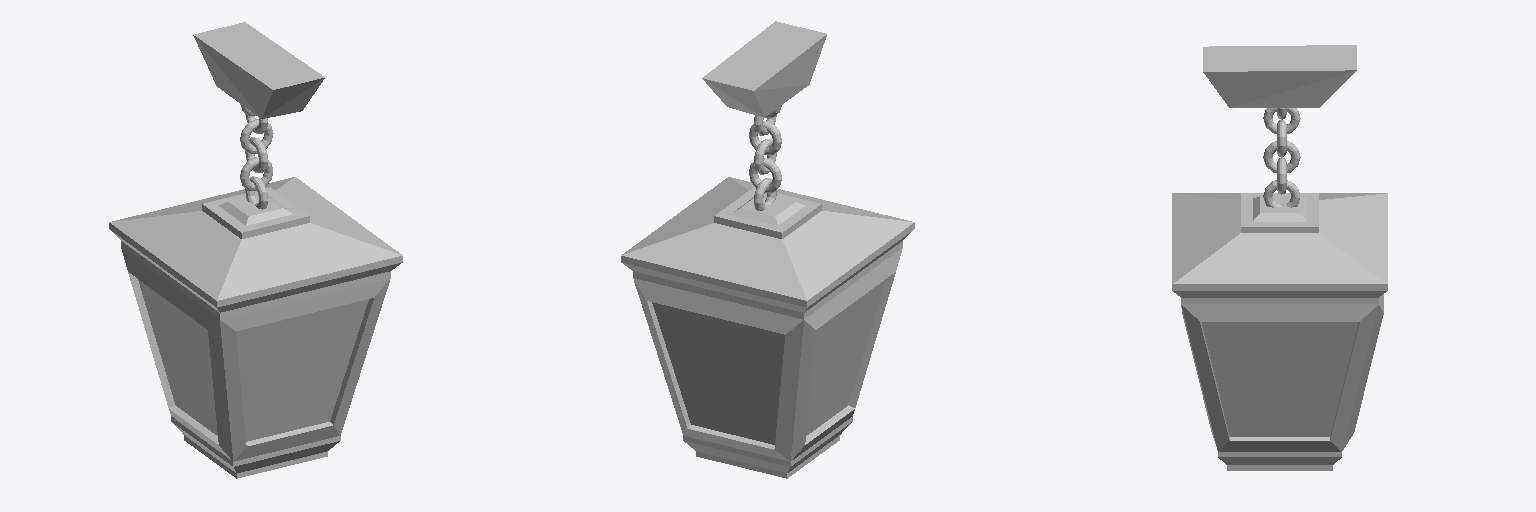
The model's file is lantern.obj.
The picture shows the model from 3 angles: view 1: azimuth 30°, elevation 25°; view 2: azimuth 150°, elevation 25°; view 3: azimuth 270°, elevation 25°; orthographic projection.
Parts seen in each view (by area): view 1: group[number redacted], group[number redacted], group[number redacted], group[number redacted], group[number redacted]; view 2: group[number redacted], group[number redacted], group[number redacted], group[number redacted]; view 3: group[number redacted], group[number redacted], group[number redacted], group[number redacted], group[number redacted].
Part boxes in pixels (left/top/right/bottom): group[number redacted]: left=109, top=177, right=402, bottom=478; group[number redacted]: left=193, top=22, right=324, bottom=118; group[number redacted]: left=202, top=187, right=309, bottom=238; group[number redacted]: left=240, top=119, right=273, bottom=153; group[number redacted]: left=240, top=157, right=272, bottom=190; group[number redacted]: left=621, top=177, right=914, bottom=478; group[number redacted]: left=702, top=21, right=826, bottom=117; group[number redacted]: left=714, top=187, right=821, bottom=238; group[number redacted]: left=749, top=158, right=781, bottom=192; group[number redacted]: left=1172, top=193, right=1387, bottom=470; group[number redacted]: left=1203, top=45, right=1356, bottom=107; group[number redacted]: left=1241, top=193, right=1318, bottom=232; group[number redacted]: left=1263, top=141, right=1300, bottom=172; group[number redacted]: left=1263, top=180, right=1300, bottom=207.
Size of the model in its own units: 0.573 by 1.17 by 0.573.